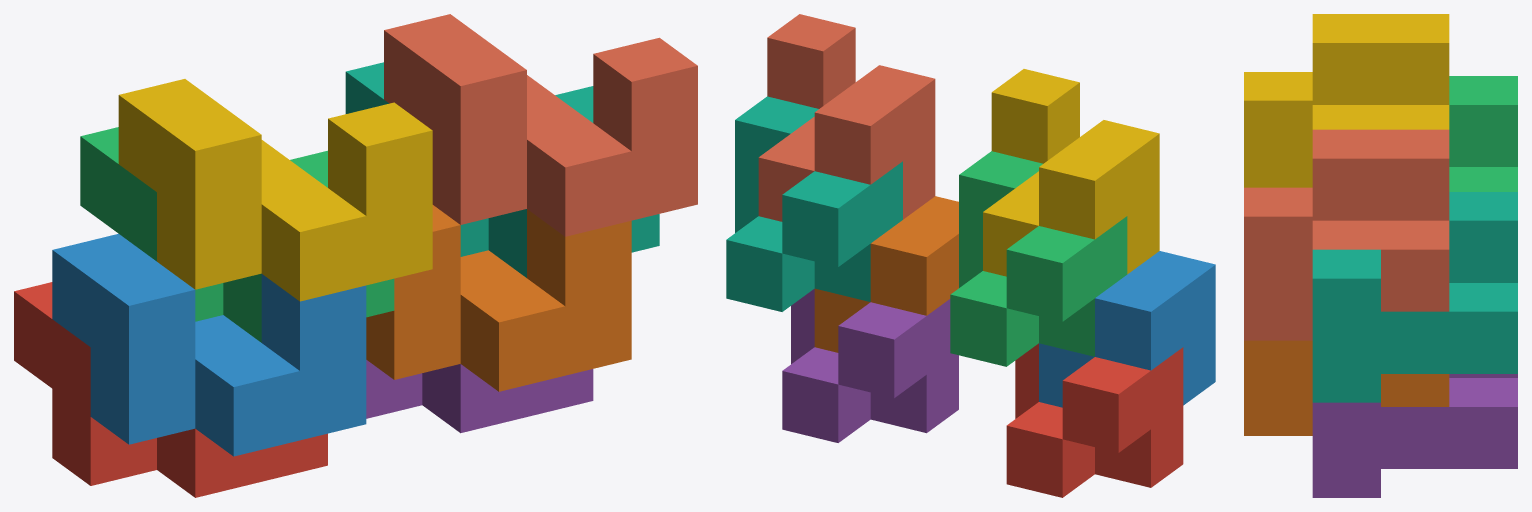
File: tiling.obj
3 views of the same model, side by side, from view 1: azimuth 30°, elevation 25°; view 2: azimuth 150°, elevation 25°; view 3: azimuth 270°, elevation 25° (orthographic). The views are drawn at different scales.
Visible parts, largest first — view 1: copy_1_domain_4, copy_1_domain_8, copy_1_domain_2, copy_1_domain_6, copy_1_domain_1, copy_1_domain_3, copy_1_domain_5, copy_1_domain_7; view 2: copy_1_domain_8, copy_1_domain_4, copy_1_domain_3, copy_1_domain_7, copy_1_domain_1, copy_1_domain_5, copy_1_domain_2, copy_1_domain_6; view 3: copy_1_domain_8, copy_1_domain_7, copy_1_domain_4, copy_1_domain_5, copy_1_domain_6, copy_1_domain_3.
Part boxes in pixels (x1,y1,x2,y2): copy_1_domain_4: (118,79,432,301); copy_1_domain_8: (384,14,697,236); copy_1_domain_2: (52,233,366,456); copy_1_domain_6: (366,205,631,391); copy_1_domain_1: (14,282,327,497); copy_1_domain_3: (80,127,394,342); copy_1_domain_5: (366,360,593,433); copy_1_domain_7: (345,62,659,277); copy_1_domain_8: (758,14,935,221); copy_1_domain_4: (983,69,1159,276); copy_1_domain_3: (950,151,1127,366); copy_1_domain_7: (726,96,902,311); copy_1_domain_1: (1006,343,1183,497); copy_1_domain_5: (782,289,958,442); copy_1_domain_2: (1039,251,1215,407); copy_1_domain_6: (814,196,958,352); copy_1_domain_8: (1244,129,1449,340); copy_1_domain_7: (1312,192,1517,402); copy_1_domain_4: (1244,14,1449,187); copy_1_domain_5: (1312,374,1517,497); copy_1_domain_6: (1244,340,1449,435); copy_1_domain_3: (1449,76,1517,191).
Size of the model in its own units: 8 by 5 by 4.
